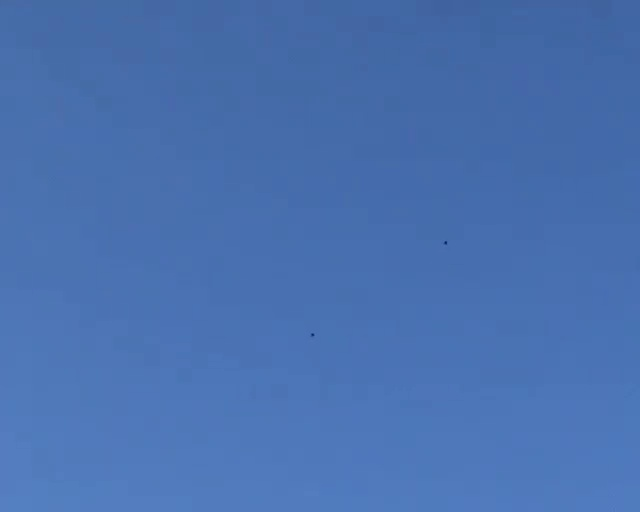BIRD: (442, 238, 449, 247)
